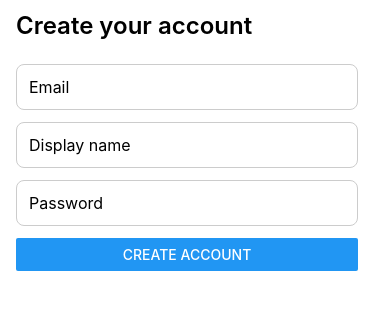
Test: says so when the email already has an account
The width and height of the screenshot is (375, 317).
Type "adam@test.com" into the field with placeholder "Email" at (187,87), box x1=16 y1=64 x2=358 y2=110
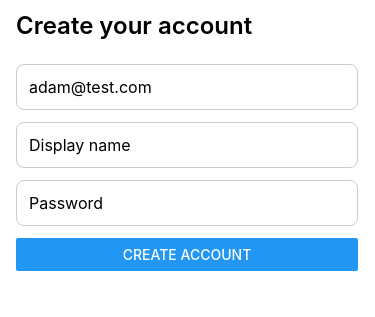
Type "adam" into the field with placeholder "Display name" at (187,145), box x1=16 y1=122 x2=358 y2=168
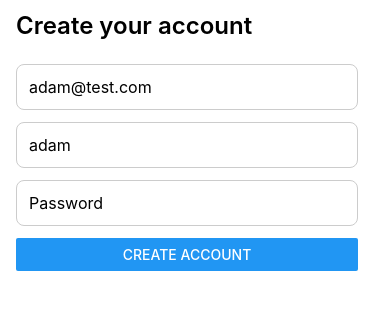
Type "password123" into the password field with placeholder "Password" at (187,203), box x1=16 y1=180 x2=358 y2=226
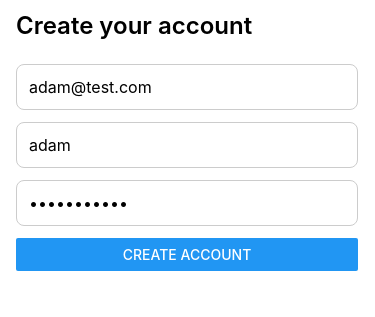
Click the button "Create account" at (187,254), box x1=16 y1=238 x2=358 y2=271
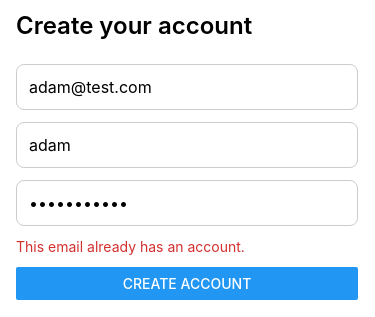
Expected: the text "This email already has an account." is shown, x1=16 y1=238 x2=245 y2=255
